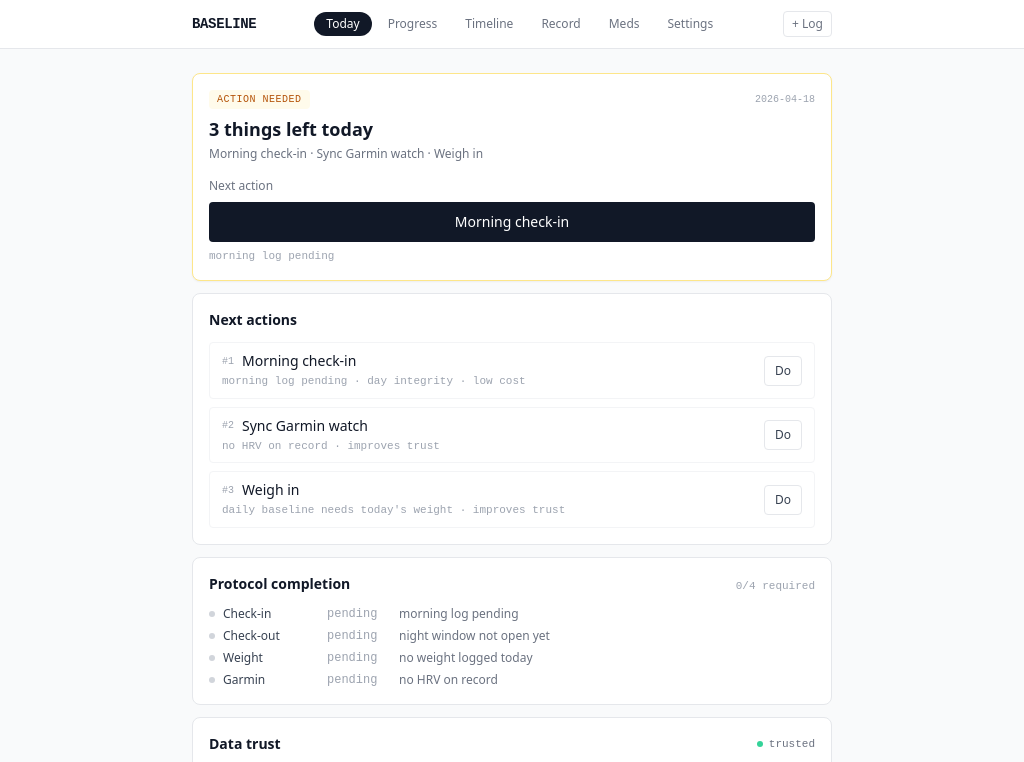
Record UI › clicking the Record nav tab renders the Record page
Click the button "Record": (561, 24) [529, 12, 593, 36]
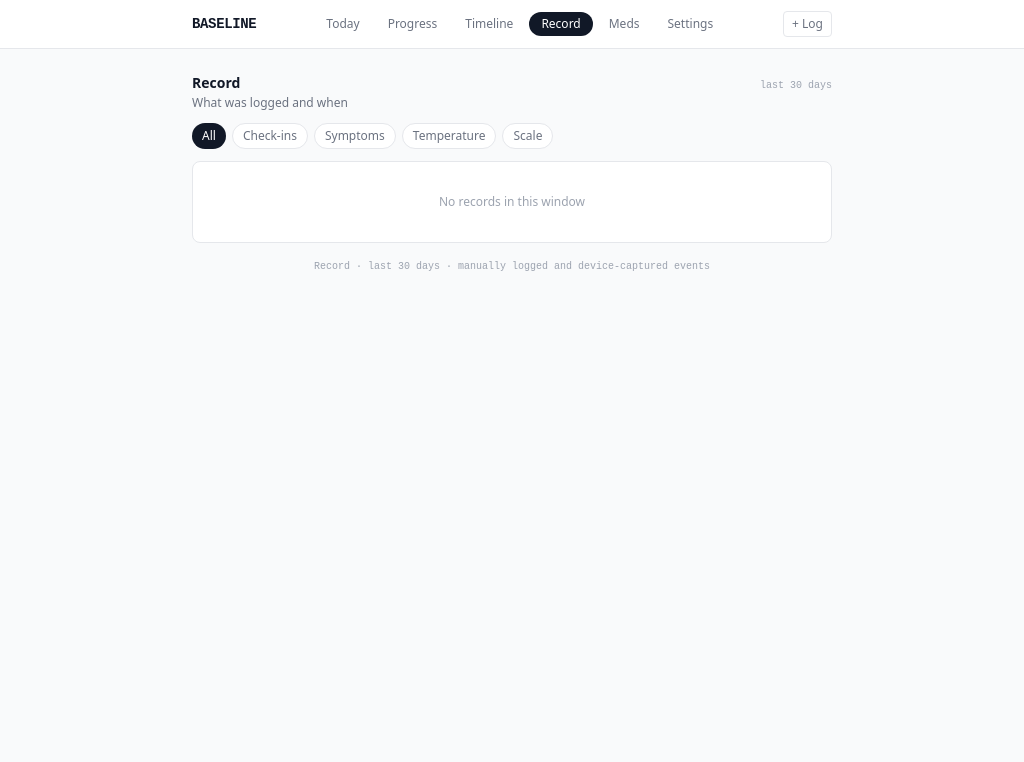
Expected: the element with test id "record-page" is shown, [192, 73, 832, 274]
